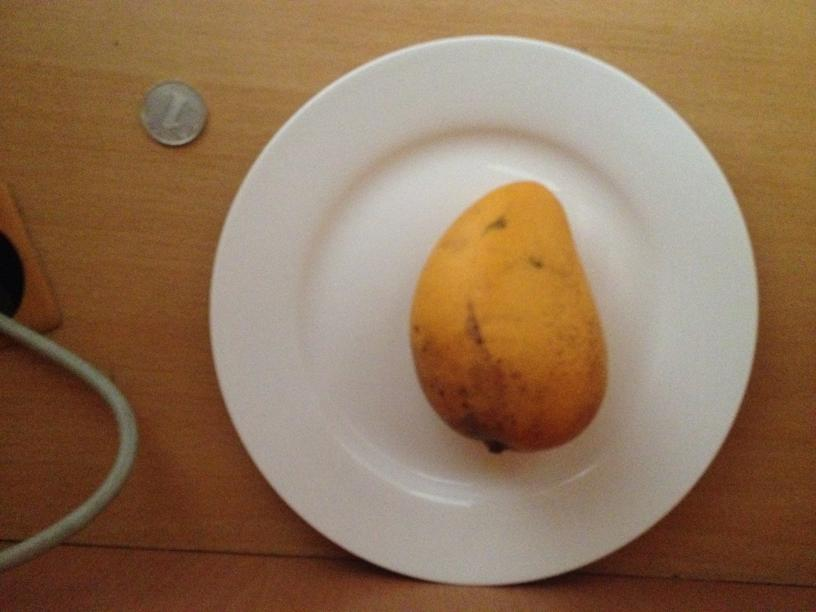coin: (135, 78, 206, 146)
mango: (405, 179, 607, 454)
